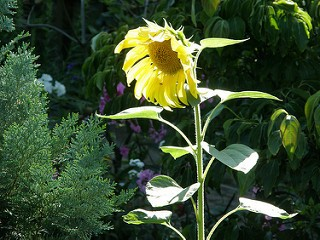flower: (113, 14, 204, 113)
